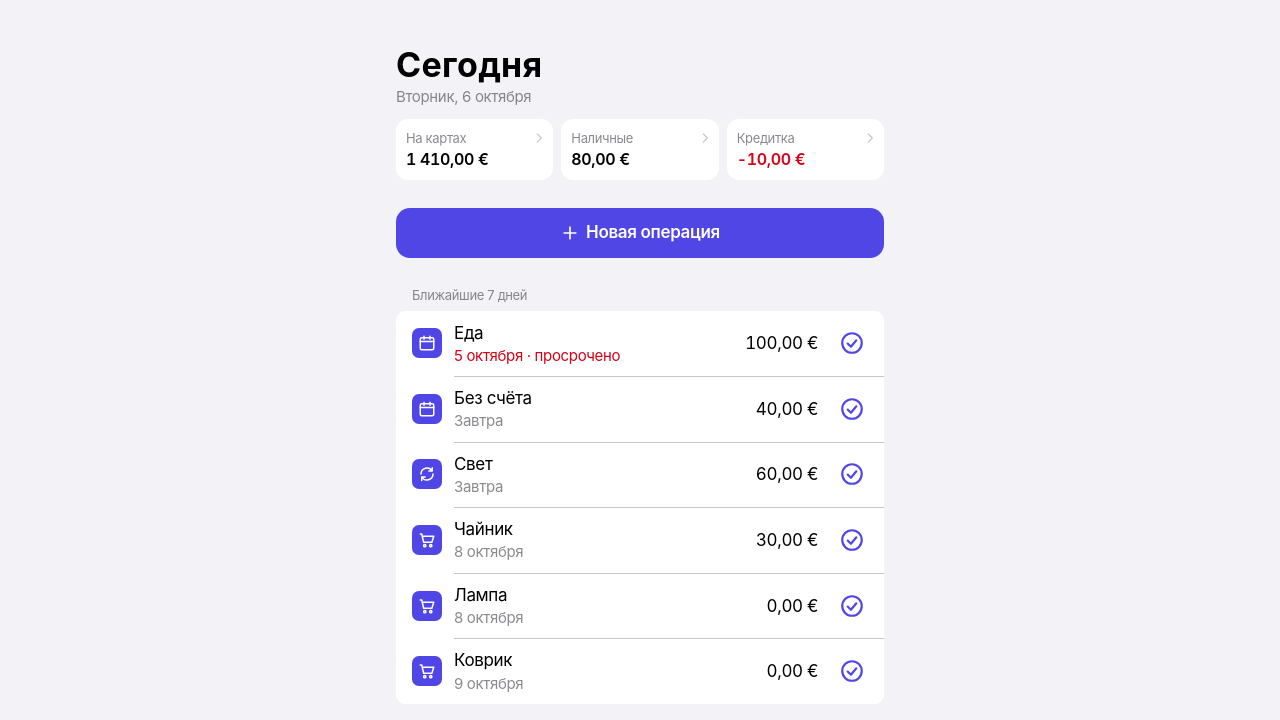
Test: Today — the next 7 days › a record that lacks what paying needs: ✓ opens its card instead of paying › a journal row without an account
The width and height of the screenshot is (1280, 720).
Click the button named "Отметить оплату: Без счёта" at (852, 409), box [830, 387, 874, 431]
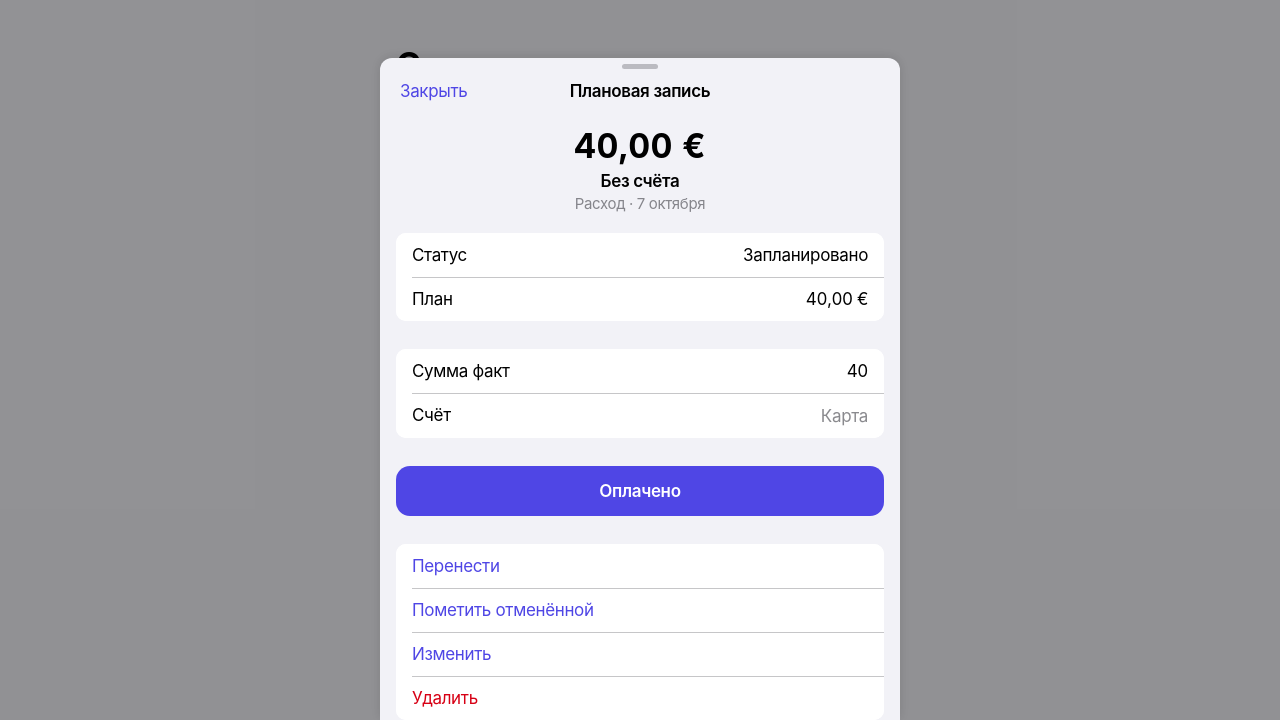
Check: the dialog "Плановая запись" is shown, box [380, 58, 900, 719]
